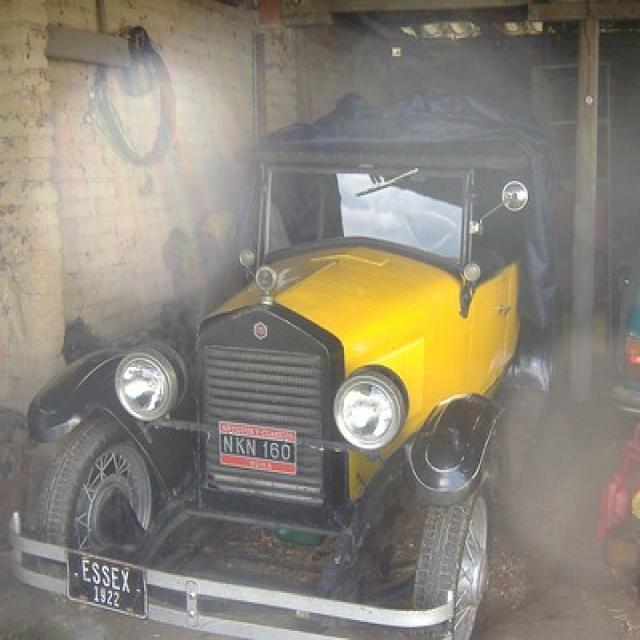placas: (66, 551, 145, 619), (220, 431, 293, 462)
